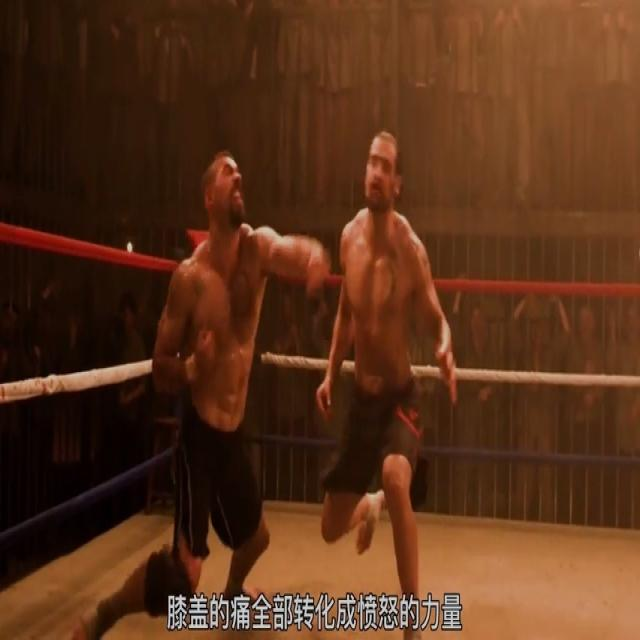fight: (130, 119, 463, 638)
